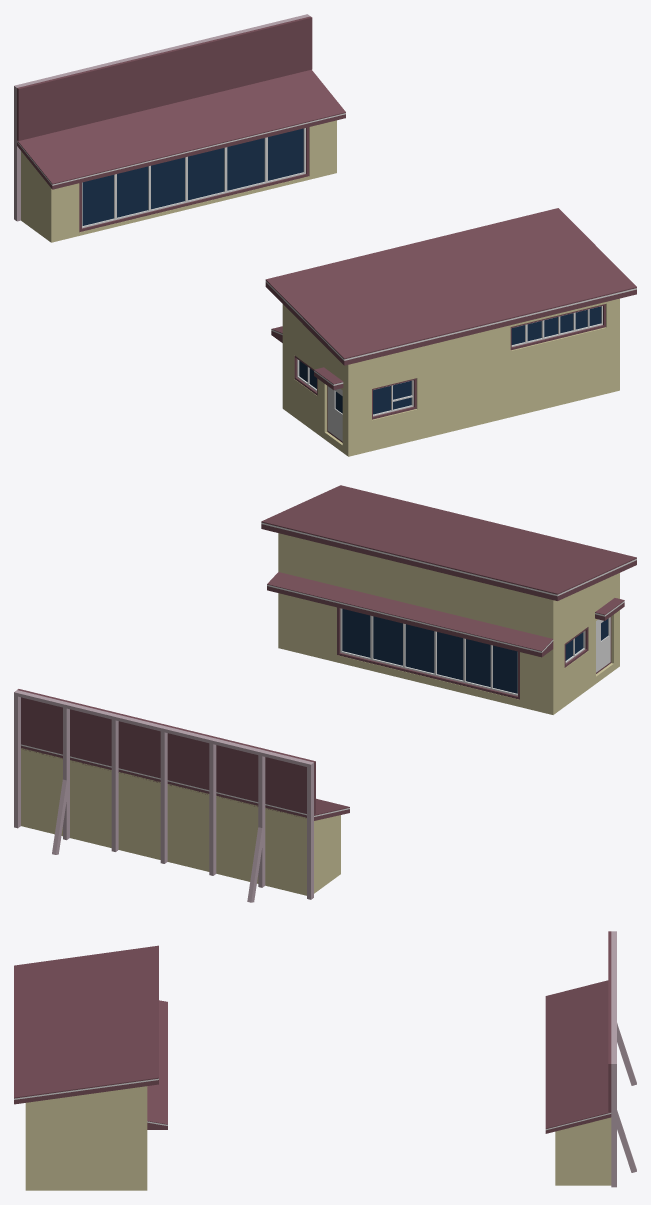
File: Building_5.fbx
3 views of the same model, one above another, from view 1: azimuth 30°, elevation 25°; view 2: azimuth 150°, elevation 25°; view 3: azimuth 270°, elevation 25° (orthographic). The views are drawn at different scales.
Parts seen in each view (by area): view 1: Building_5; view 2: Building_5; view 3: Building_5.
Part boxes in pixels (box(x1,y1,x2,y2)): Building_5: box(14, 14, 636, 456); Building_5: box(14, 485, 636, 902); Building_5: box(14, 931, 636, 1190).
Bounding box in the file's own units: 13.46 × 6.15 × 26.48.
